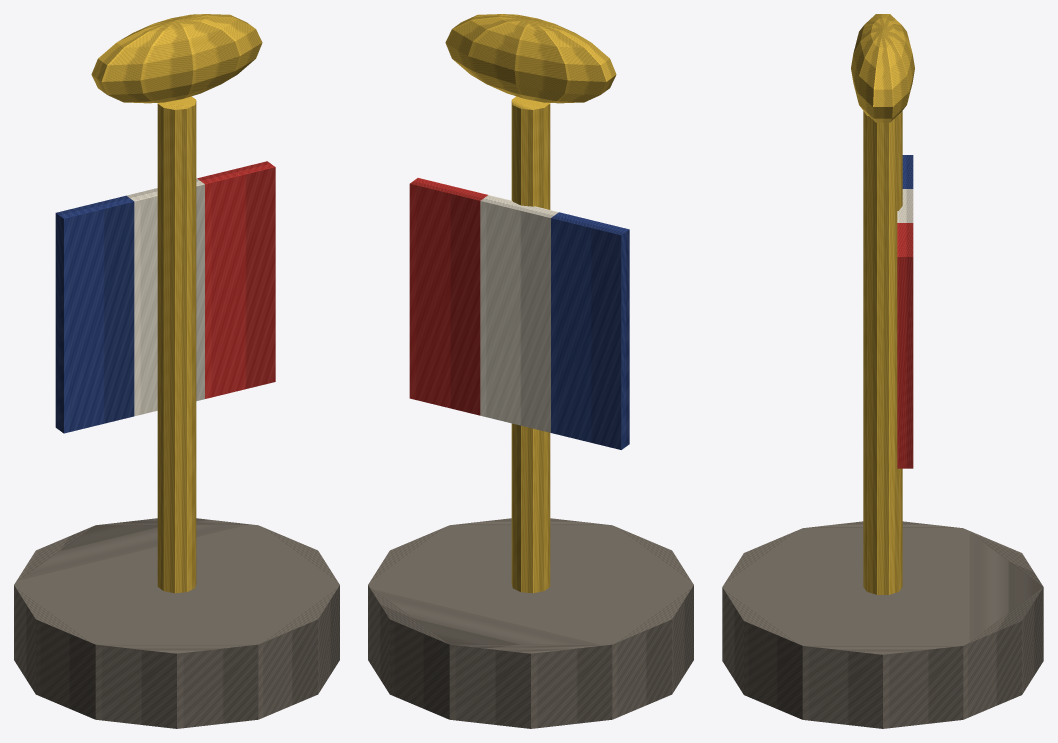
The model's file is eagle.glb.
3 views of the same model, side by side, from view 1: azimuth 30°, elevation 25°; view 2: azimuth 150°, elevation 25°; view 3: azimuth 270°, elevation 25° (orthographic).
Parts seen in each view (by area): view 1: Cylinder; view 2: Cylinder; view 3: Cylinder.
Part boxes in pixels (bbox=[...]): Cylinder: bbox=[14, 14, 339, 728]; Cylinder: bbox=[368, 14, 693, 728]; Cylinder: bbox=[722, 14, 1043, 728].
Bounding box in the file's own units: 0.54 × 1.17 × 0.54.
Materials: 1 (1 with a texture image).
